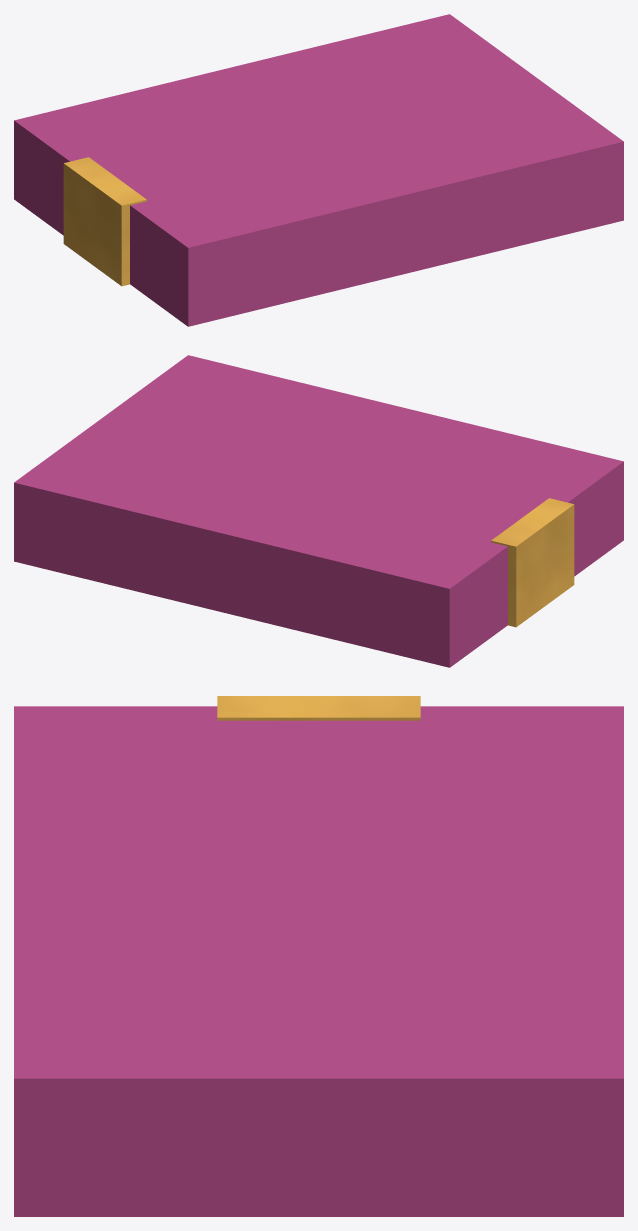
Rendered from dun_book.glb.
3 renders of one model, top to bottom at view 1: azimuth 30°, elevation 25°; view 2: azimuth 150°, elevation 25°; view 3: azimuth 270°, elevation 25°, orthographic. The views are drawn at different scales.
Parts seen in each view (by area): view 1: dun_book_velvet_0, dun_book_gold_0; view 2: dun_book_velvet_0, dun_book_gold_0; view 3: dun_book_velvet_0, dun_book_gold_0.
Boxes of the visible parts, x1,y1,x2,y2 form: dun_book_velvet_0: [14, 14, 623, 326]; dun_book_gold_0: [63, 157, 146, 286]; dun_book_velvet_0: [14, 355, 623, 667]; dun_book_gold_0: [491, 498, 574, 627]; dun_book_velvet_0: [14, 706, 623, 1216]; dun_book_gold_0: [217, 696, 420, 720].
Size of the model in its own units: 0.265 by 0.046 by 0.18.
3 materials, 1 textured.
